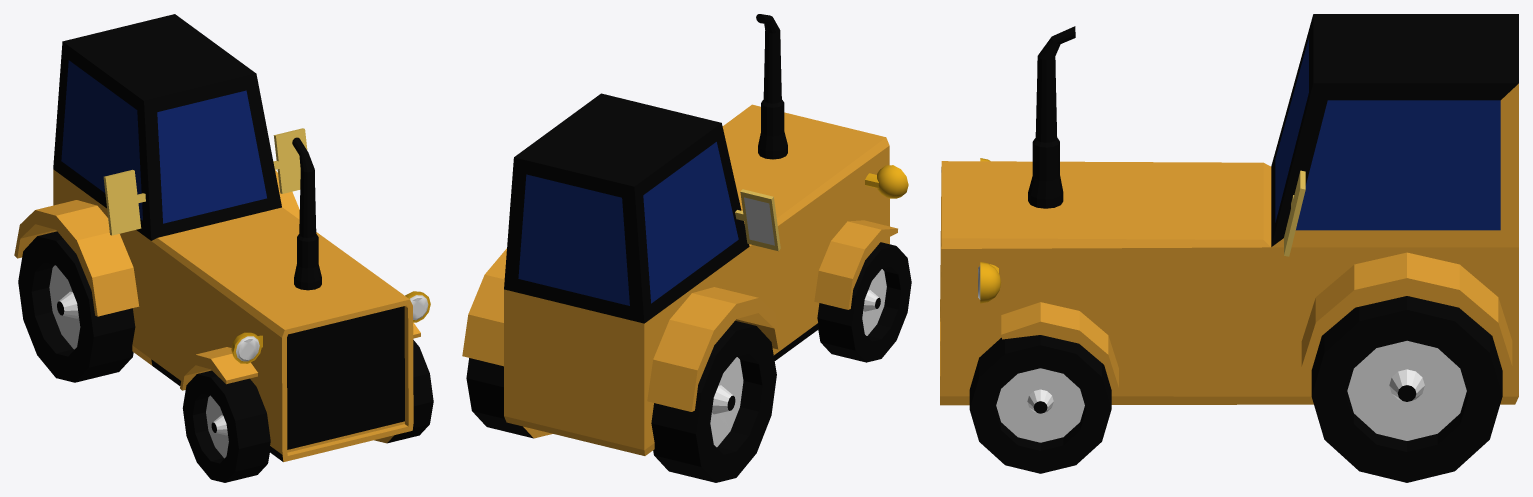
The model's file is traktor_3.fbx.
3 renders of one model, left to right at view 1: azimuth 30°, elevation 25°; view 2: azimuth 150°, elevation 25°; view 3: azimuth 270°, elevation 25°, orthographic. The views are drawn at different scales.
Visible parts, largest first — view 1: Object_8; view 2: Object_8; view 3: Object_8.
Part boxes in pixels (x1=…): Object_8: x1=14, y1=14, x2=433, y2=482; Object_8: x1=462, y1=14, x2=911, y2=482; Object_8: x1=940, y1=14, x2=1518, y2=482.
Size of the model in its own units: 21.88 by 30.29 by 40.59.
